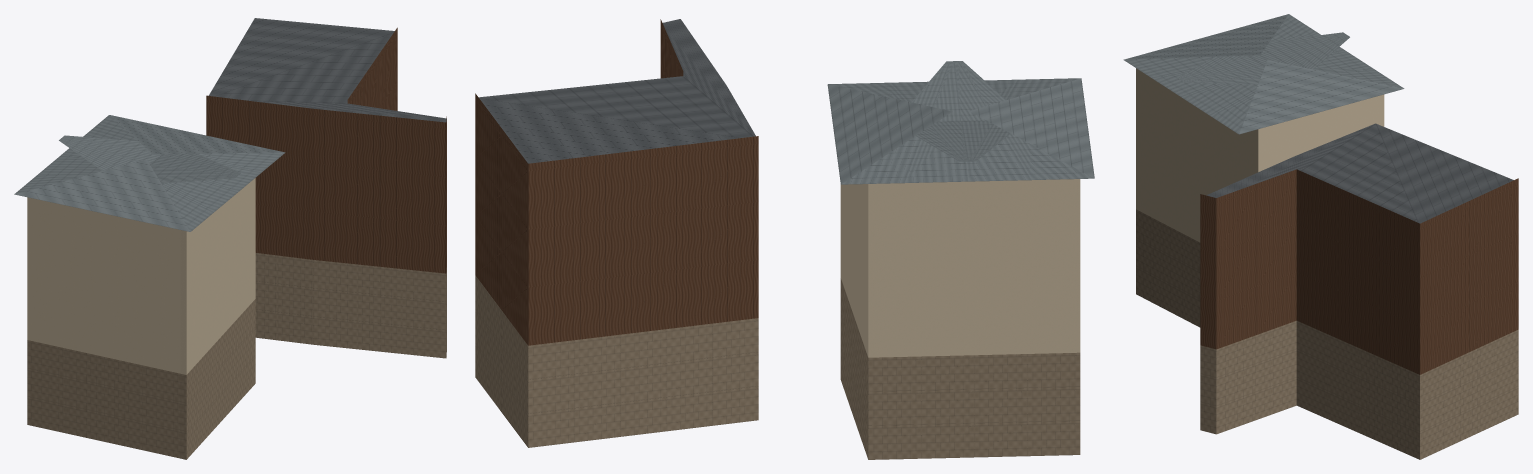
The model's file is bld_c15_26_394.gltf.
The picture shows the model from 3 angles, left to right: view 1: azimuth 30°, elevation 25°; view 2: azimuth 150°, elevation 25°; view 3: azimuth 270°, elevation 25°; orthographic projection. The views are drawn at different scales.
Visible parts, largest first — view 1: bld_c15_26_394; view 2: bld_c15_26_394; view 3: bld_c15_26_394.
Part boxes in pixels (x1,y1,x2,y2): bld_c15_26_394: [14, 18, 446, 459]; bld_c15_26_394: [475, 19, 1094, 459]; bld_c15_26_394: [1123, 14, 1518, 459].
Size of the model in its own units: 28.23 by 15 by 21.51.
6 materials, 6 textured.
